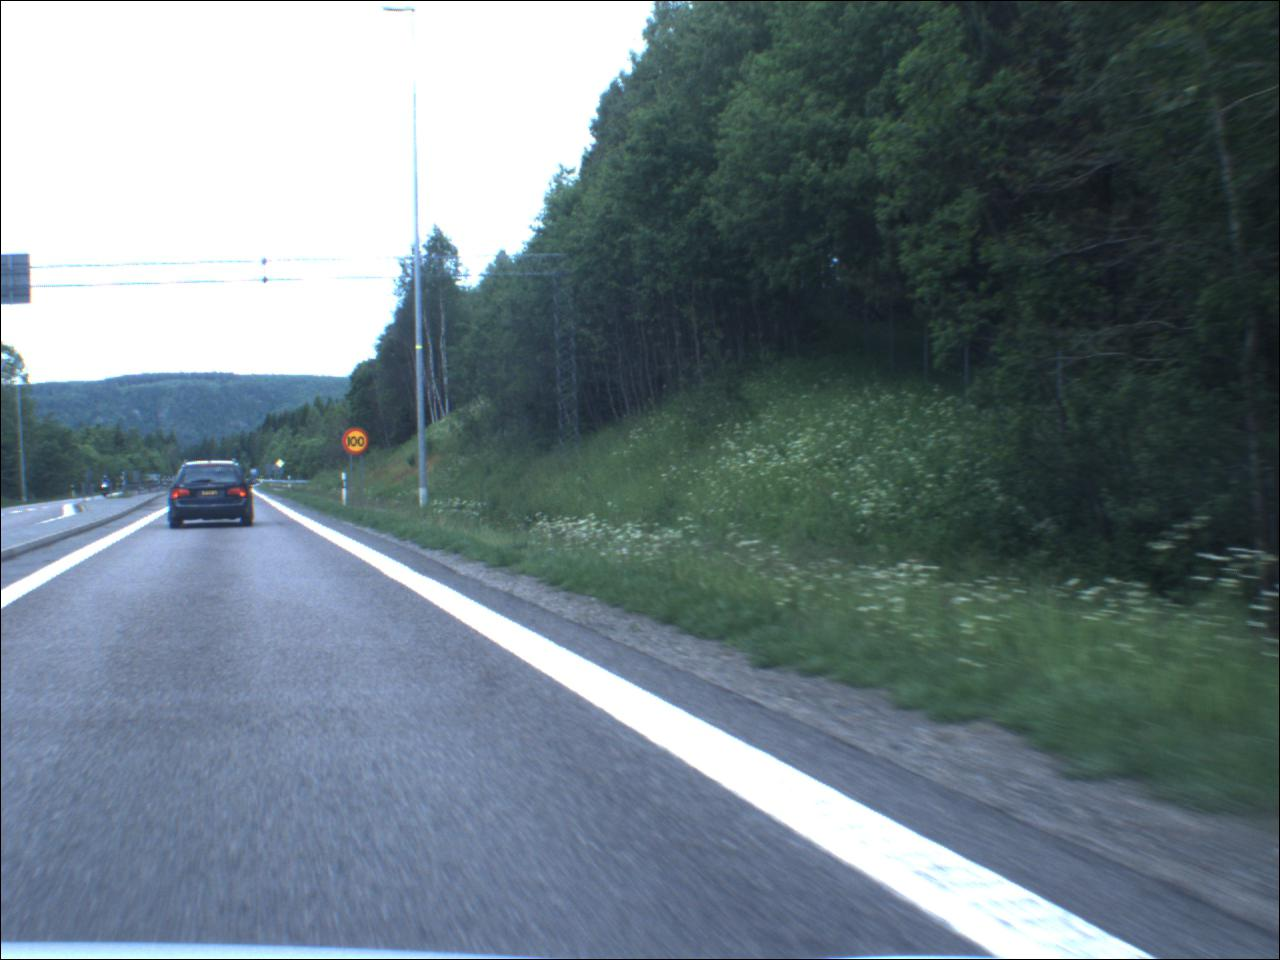100_SIGN: (344, 428, 372, 457)
PRIORITY_ROAD: (277, 460, 288, 472)
